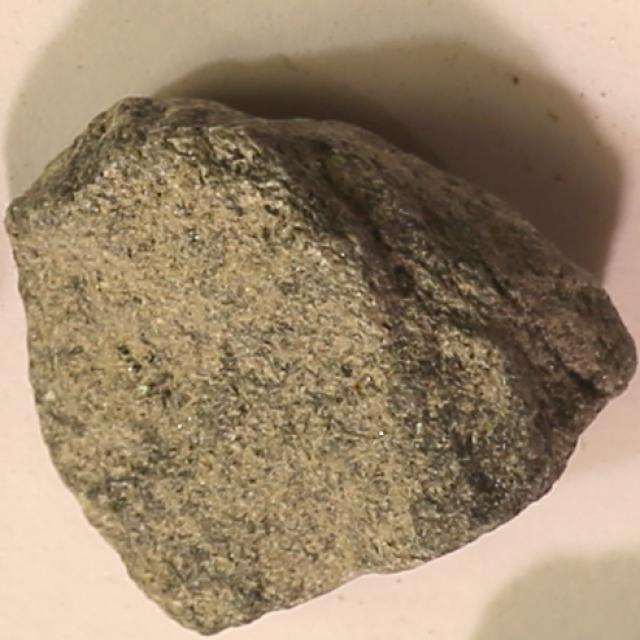stone: (0, 92, 633, 640)
